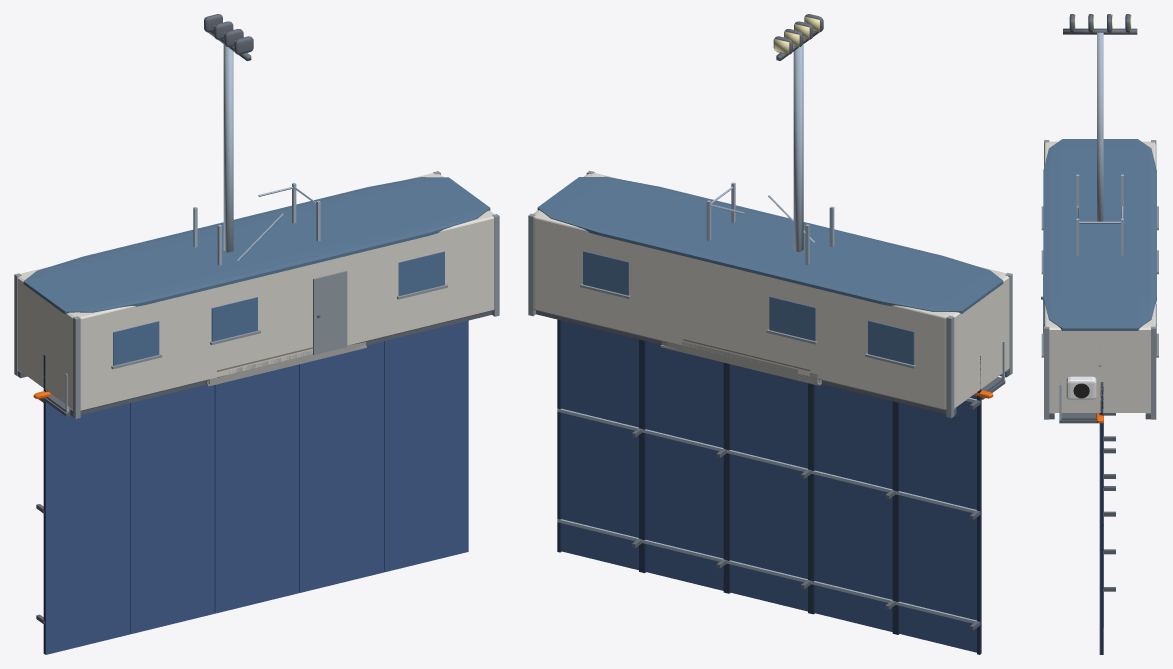
File: site.glb
3 renders of one model, left to right at view 1: azimuth 30°, elevation 25°; view 2: azimuth 150°, elevation 25°; view 3: azimuth 270°, elevation 25°, orthographic. The views are drawn at different scales.
Visible parts, largest first — view 1: EdgeScreenRun, ShedUnit, EdgeScreen, LightTower, WashoutBay, ShedStair; view 2: EdgeScreenRun, ShedUnit, EdgeScreen, LightTower, WashoutBay, ShedStair; view 3: ShedUnit, LightTower, EdgeScreenRun, ShedStair, ShedWalkway.
Part boxes in pixels (<box>): EdgeScreenRun: <box>36,320,468,654</box>; ShedUnit: <box>14,171,499,418</box>; EdgeScreen: <box>214,364,299,613</box>; LightTower: <box>204,14,253,252</box>; WashoutBay: <box>205,342,366,386</box>; ShedStair: <box>193,182,320,265</box>; EdgeScreenRun: <box>557,319,981,654</box>; ShedUnit: <box>528,170,1012,418</box>; EdgeScreen: <box>726,363,810,613</box>; LightTower: <box>773,14,823,252</box>; WashoutBay: <box>660,339,821,385</box>; ShedStair: <box>706,182,834,264</box>; ShedUnit: <box>1041,139,1158,419</box>; LightTower: <box>1063,14,1137,221</box>; EdgeScreenRun: <box>1099,382,1115,654</box>; ShedStair: <box>1076,174,1123,255</box>; ShedWalkway: <box>1059,383,1099,423</box>.
Size of the model in its own units: 12.64 by 15.8 by 3.17.
